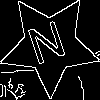N: (24, 20, 72, 75)
